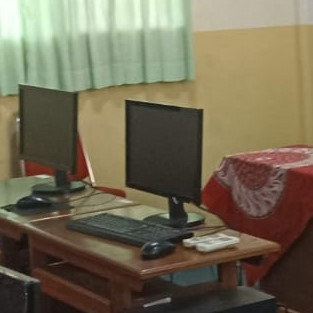monitor: (124, 99, 204, 207), (17, 84, 78, 177), (77, 130, 126, 198)
